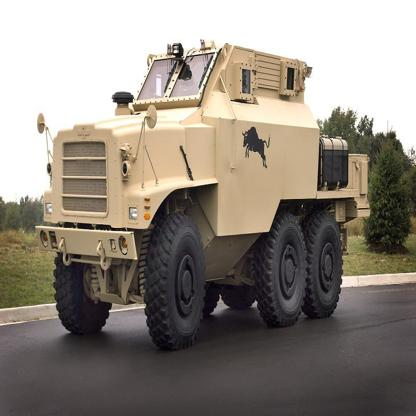Tank: (36, 35, 376, 351)
